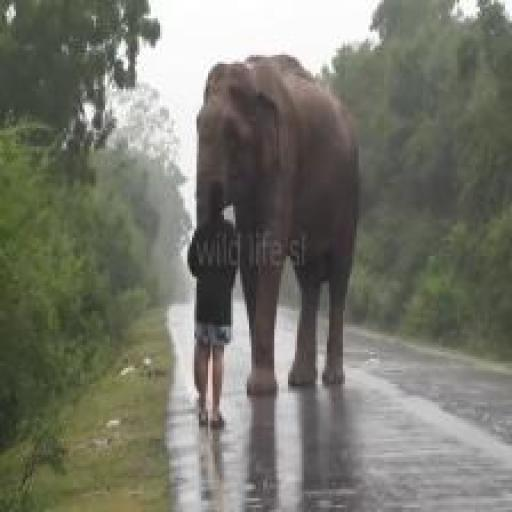Elephant: (192, 48, 373, 405)
